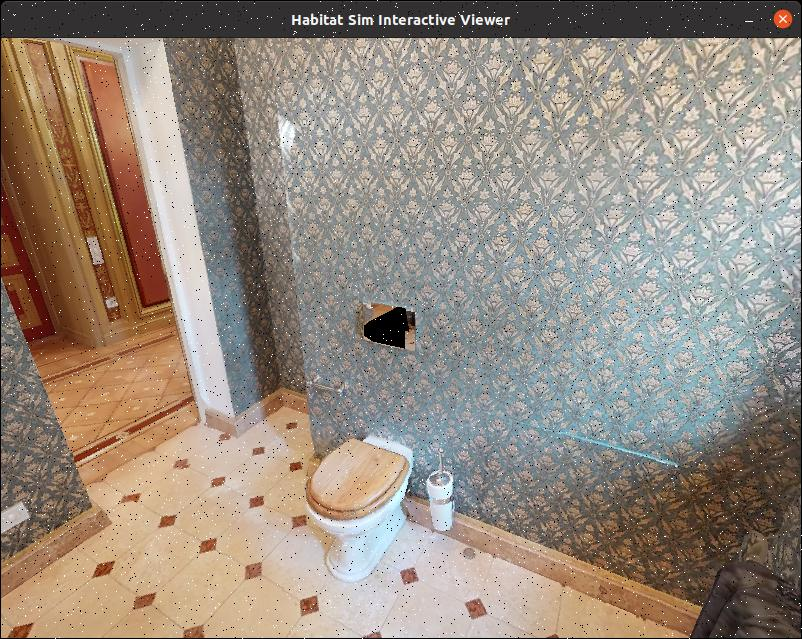door-frame: (0, 35, 264, 532)
toilet: (297, 401, 430, 616)
